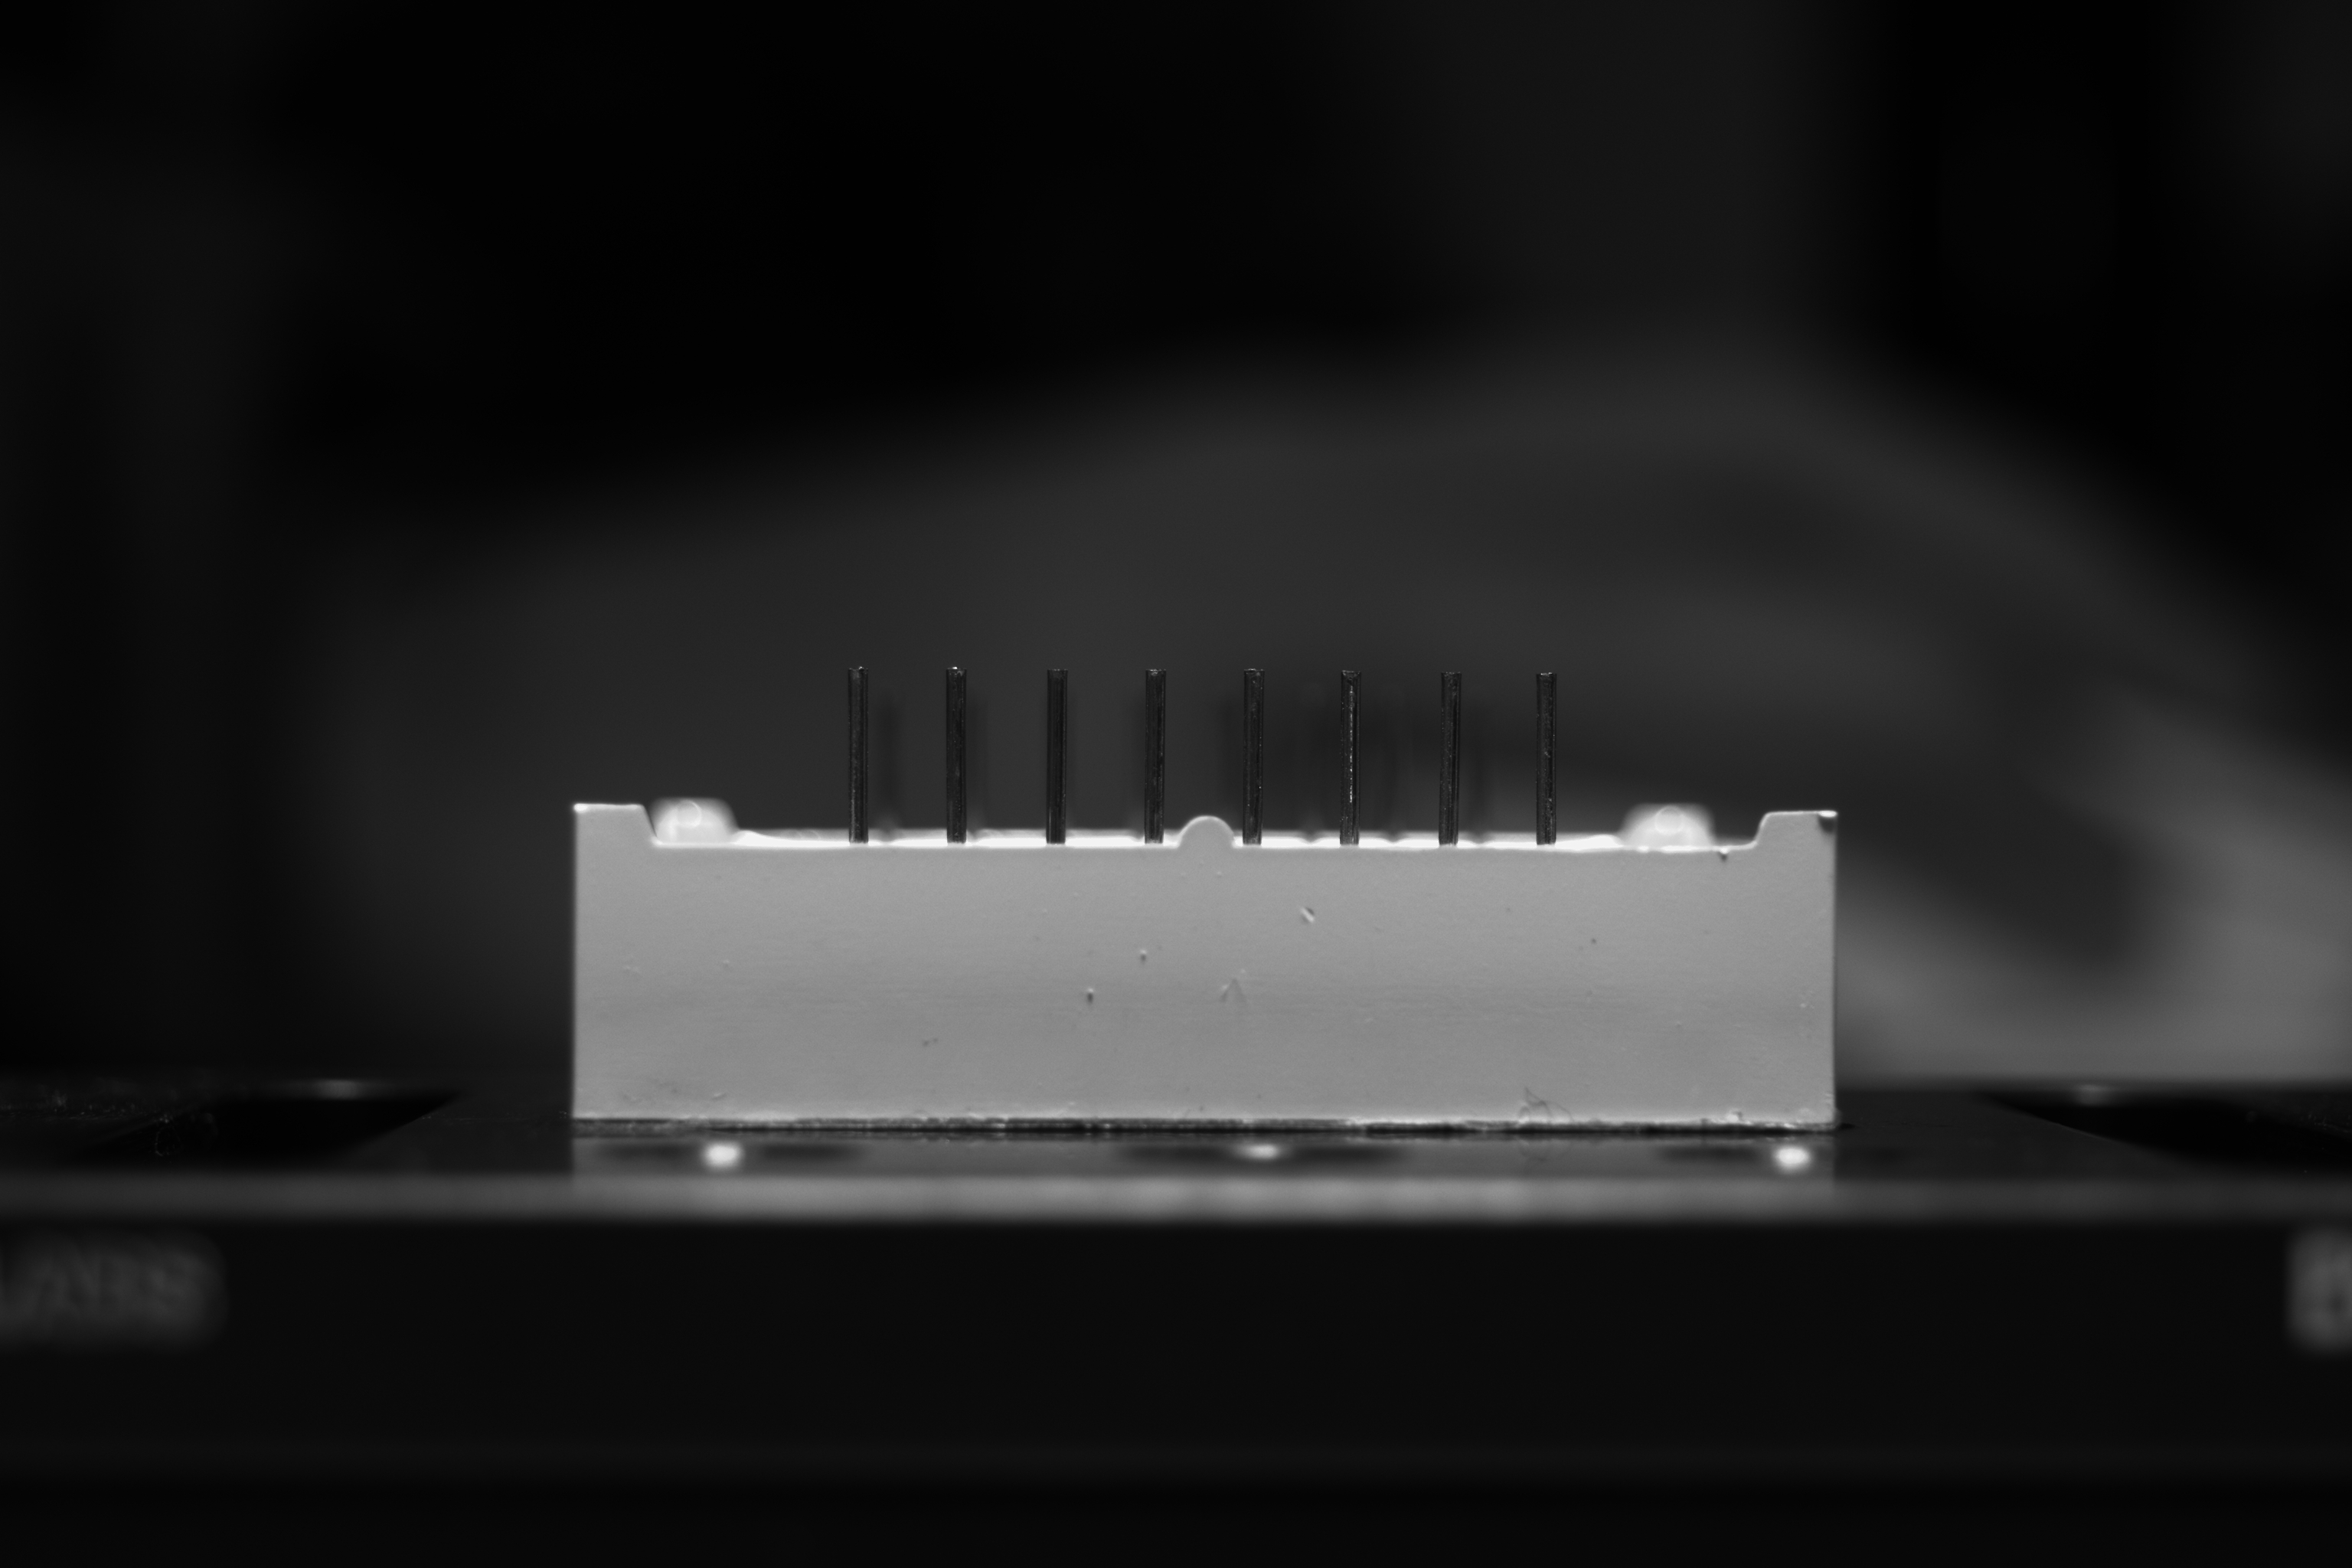Component: (570, 656, 1850, 1139)
